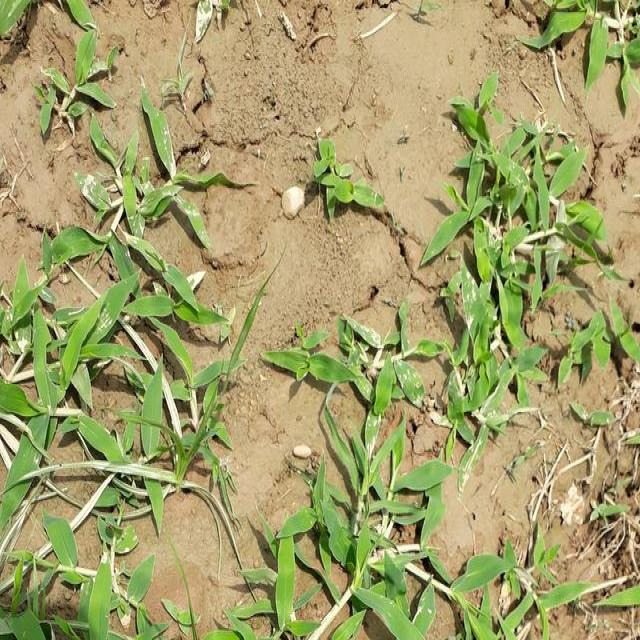weed: (0, 82, 198, 512), (429, 43, 639, 412), (264, 287, 481, 640), (2, 516, 154, 638), (308, 128, 388, 218)
